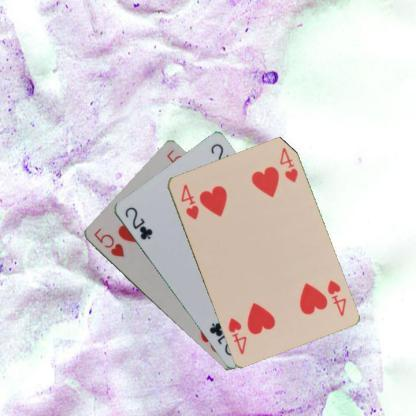2c: (122, 204, 154, 242)
4h: (324, 277, 347, 318), (177, 181, 200, 221)
5h: (91, 225, 125, 259)
